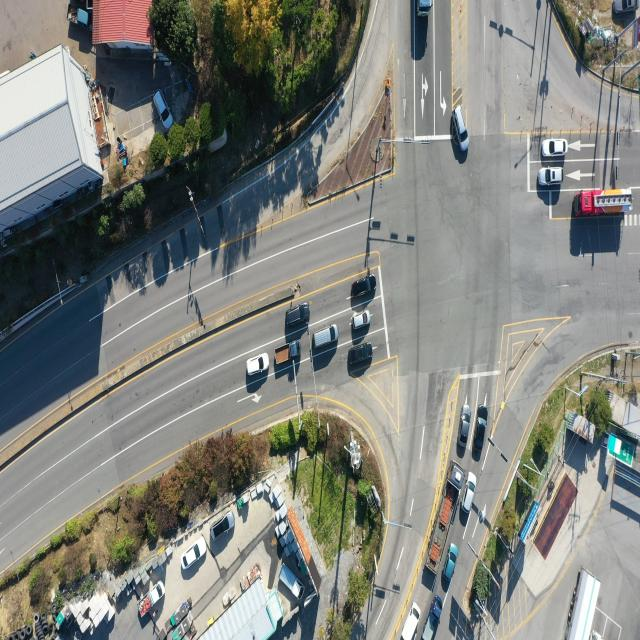car: (400, 604, 423, 640), (155, 90, 175, 130), (453, 104, 469, 152), (472, 410, 486, 461), (184, 535, 207, 565), (461, 473, 477, 515), (312, 324, 338, 349), (284, 304, 310, 328), (212, 511, 234, 539), (348, 344, 374, 367), (458, 404, 471, 450), (351, 277, 375, 299), (247, 352, 269, 375), (446, 542, 458, 580), (538, 168, 562, 187), (543, 139, 567, 157), (352, 311, 371, 330), (614, 0, 638, 15)
medium_truck: (429, 461, 464, 570), (565, 567, 600, 638), (576, 192, 634, 217), (418, 0, 432, 17)
small_truck: (137, 582, 166, 624), (423, 596, 445, 640), (278, 568, 301, 598), (274, 342, 300, 366), (67, 6, 90, 29)
